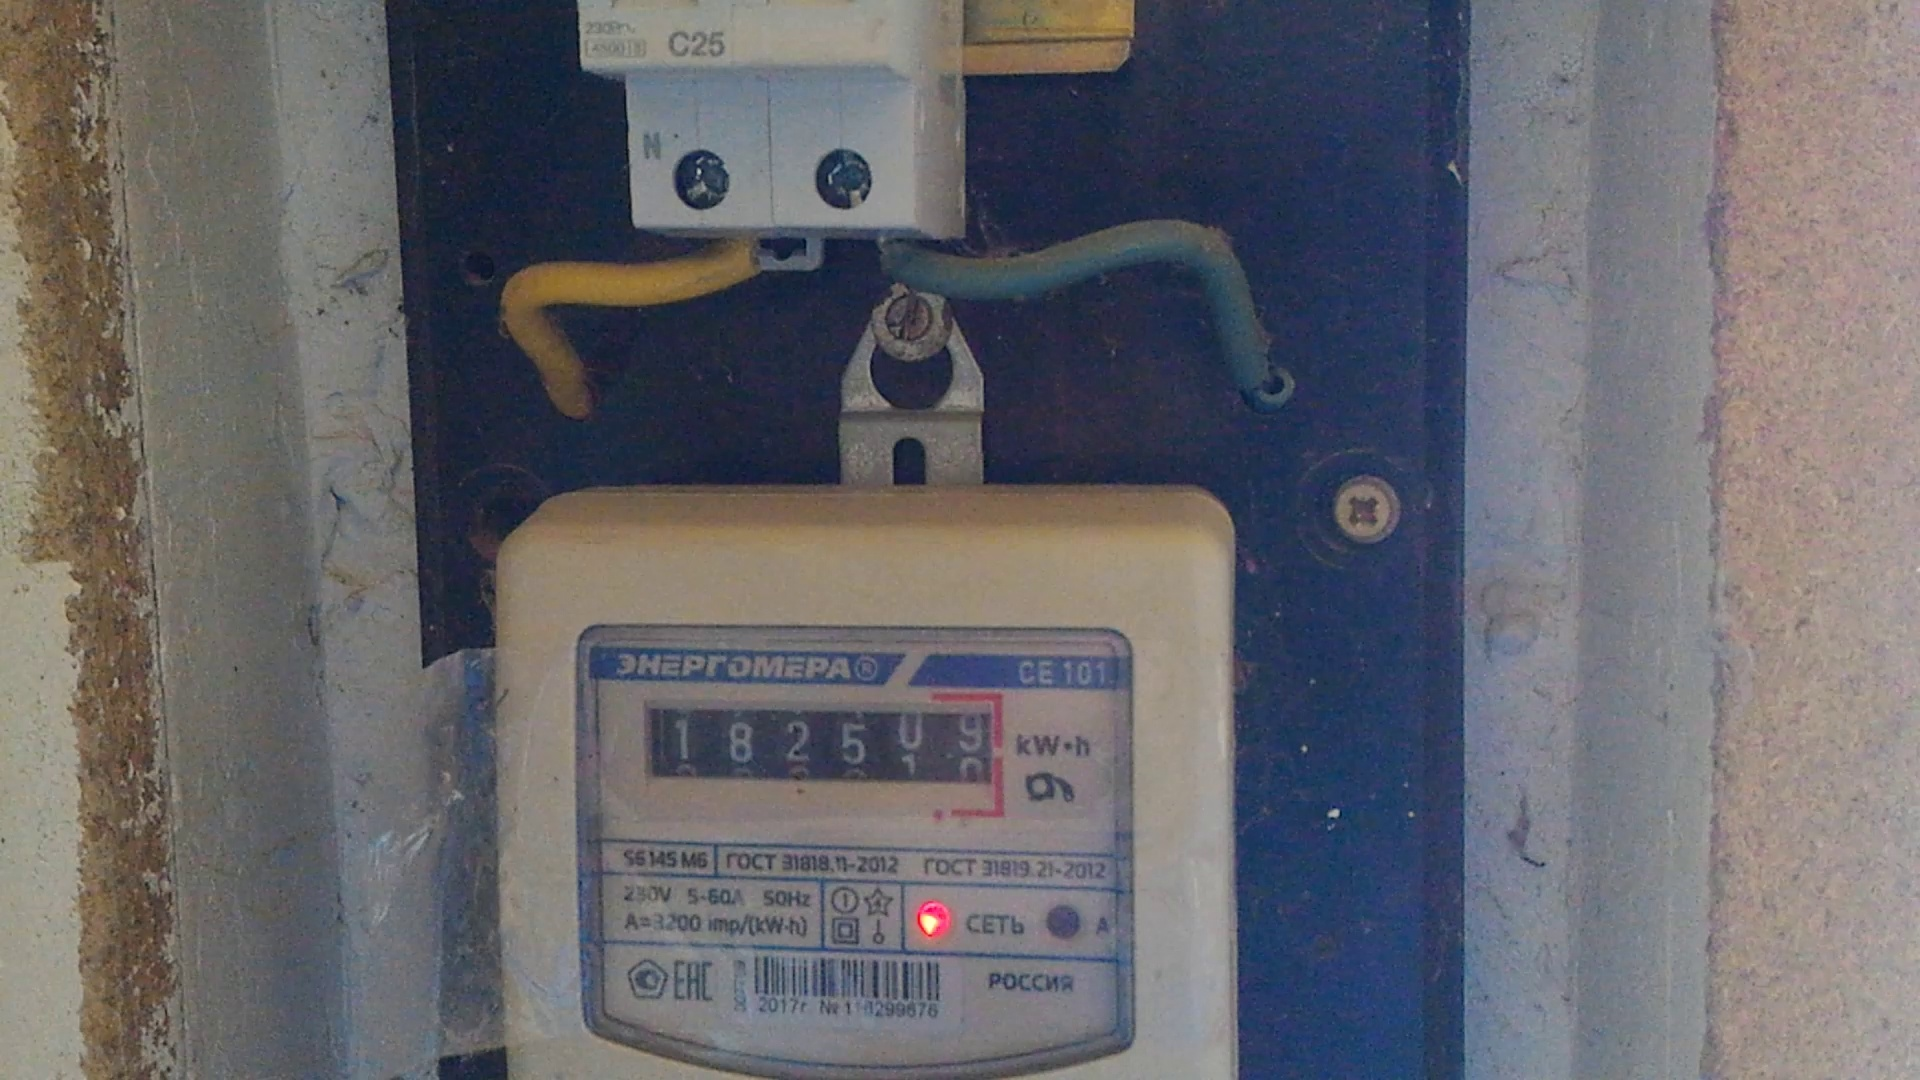counter: (498, 535, 1237, 1077)
counter_screen: (646, 704, 996, 789)
